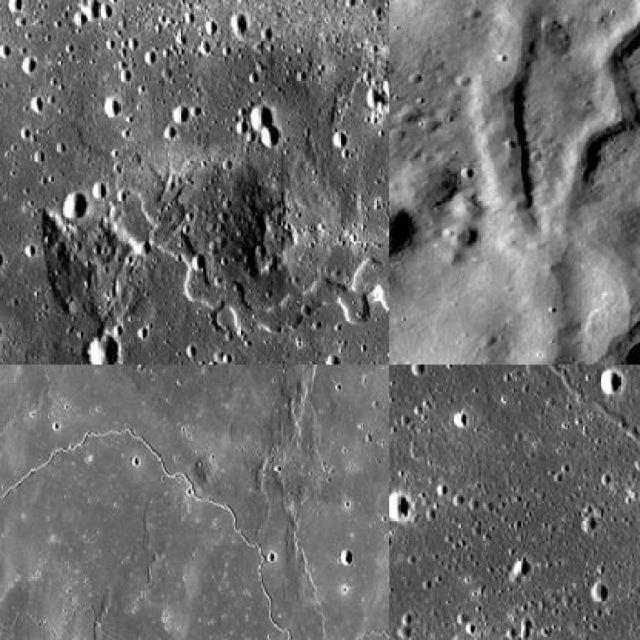rille: (0, 364, 388, 638), (410, 364, 638, 638), (110, 179, 388, 363), (469, 20, 565, 363), (536, 0, 638, 251), (0, 602, 388, 638)
